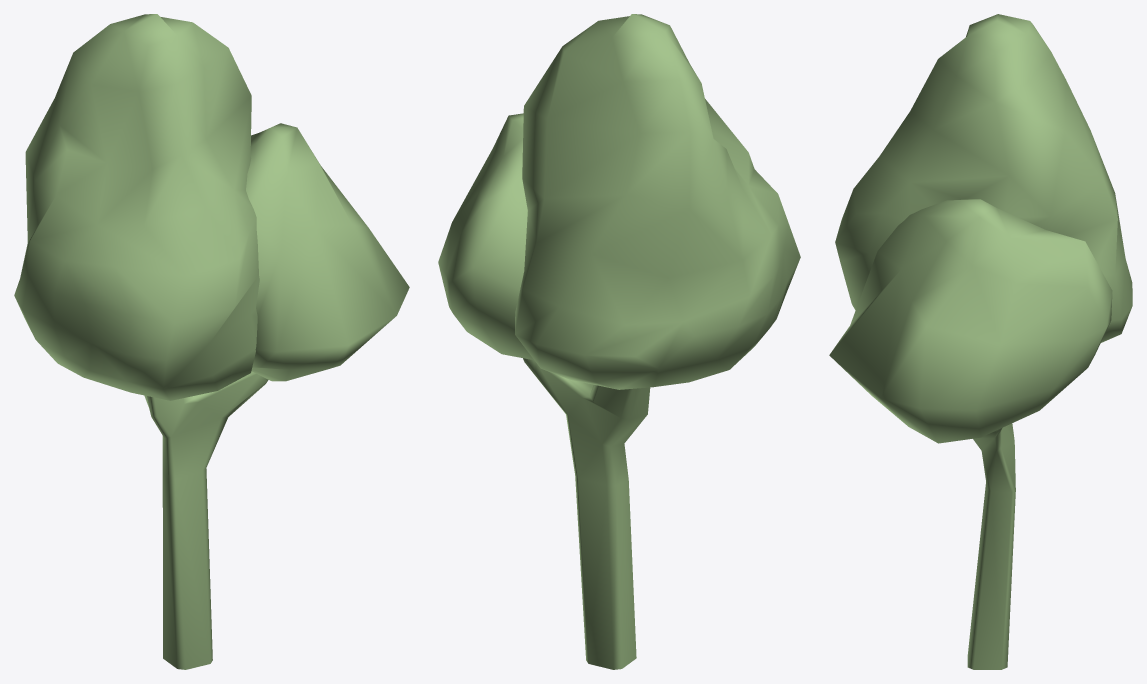
File: Tree4_uv.fbx
The picture shows the model from 3 angles, left to right: view 1: azimuth 30°, elevation 25°; view 2: azimuth 150°, elevation 25°; view 3: azimuth 270°, elevation 25°; orthographic projection. The views are drawn at different scales.
Visible parts, largest first — view 1: pSphere1, pSphere2, pCube1; view 2: pSphere1, pCube1, pSphere2; view 3: pSphere2, pSphere1, pCube1.
Part boxes in pixels (box(x1,y1,x2,y2)): pSphere1: box(14, 14, 259, 400); pSphere2: box(246, 123, 409, 381); pCube1: box(144, 371, 268, 669); pSphere1: box(515, 14, 800, 389); pCube1: box(523, 358, 650, 669); pSphere2: box(438, 113, 533, 360); pSphere2: box(829, 199, 1112, 443); pSphere1: box(835, 14, 1132, 342); pCube1: box(967, 423, 1015, 669).
Size of the model in its own units: 268 by 478 by 209.
